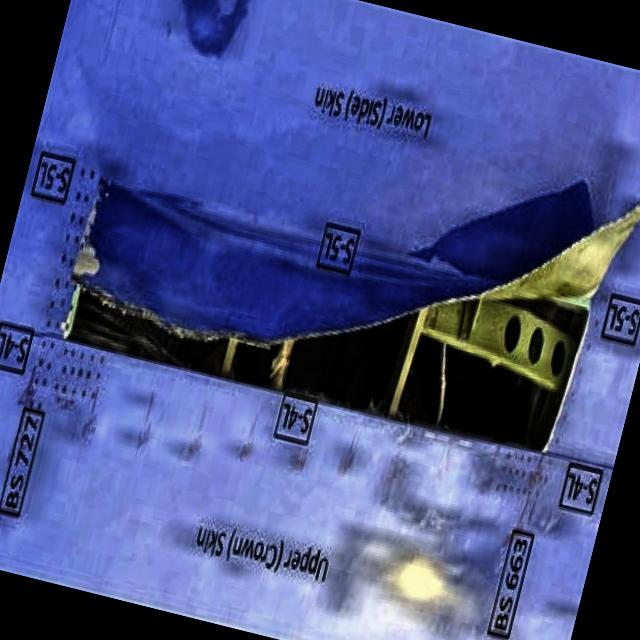crack: (49, 63, 640, 472)
